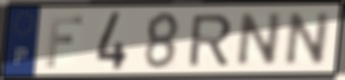4: (95, 9, 130, 73)
8: (143, 10, 182, 70)
F: (44, 14, 86, 69)
N: (234, 11, 286, 69), (282, 11, 334, 68)
R: (186, 12, 235, 68)
